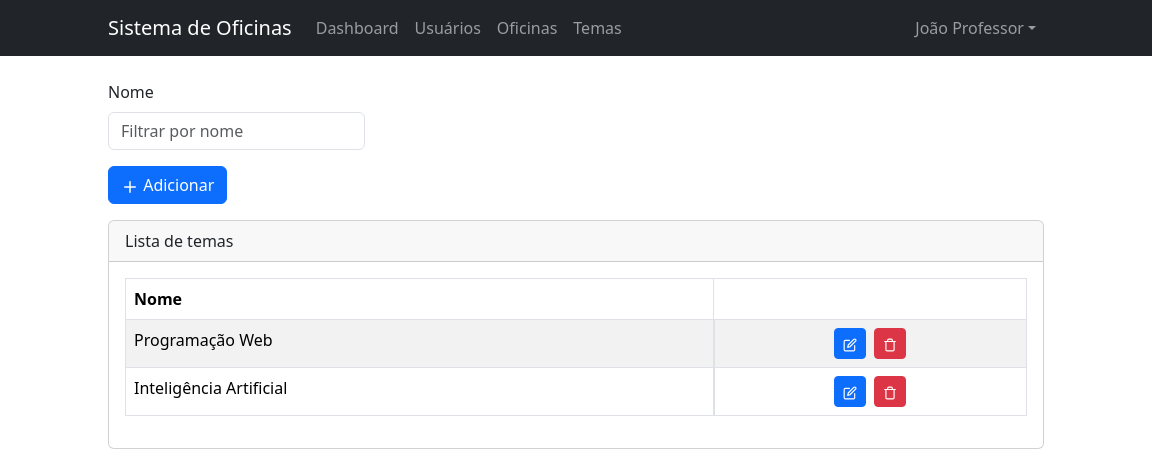
Test case: Temas › filtra temas por nome em tempo real
In the field with placeholder "Filtrar por nome": (237, 131) 108,112 -> 365,150, type "Programação"
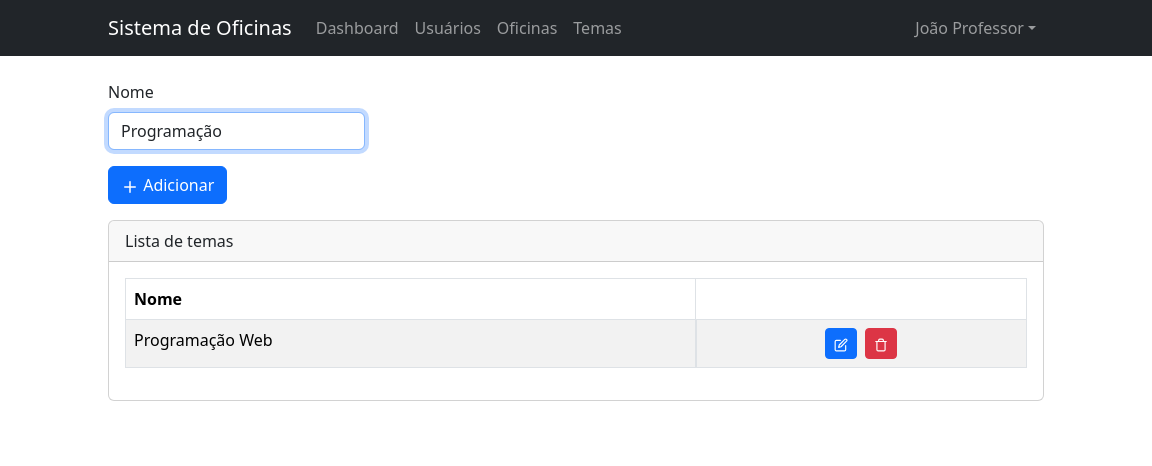
Expected: the text "Programação Web" is shown, 126,320 -> 695,368
Now the text "Inteligência Artificial" is gone
